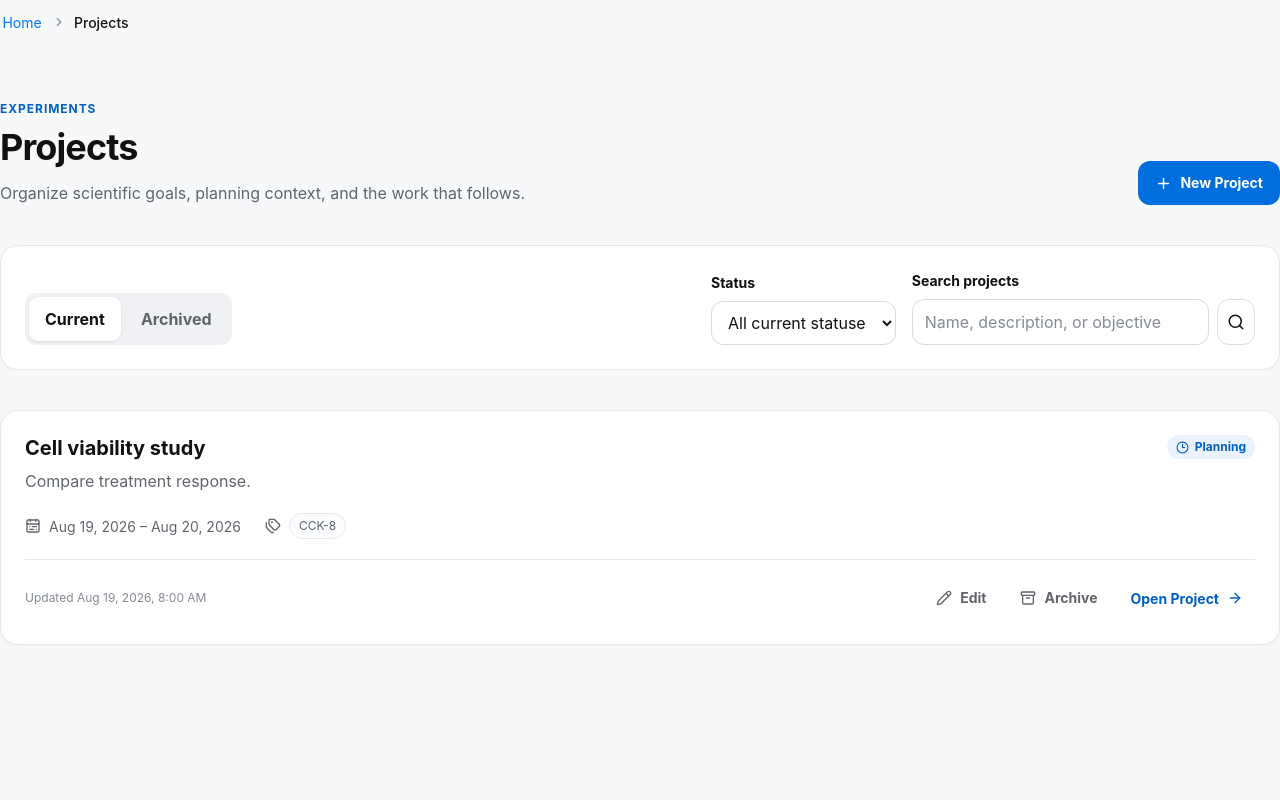
it: ProjectsPage › shows a clear revision conflict during edit
Expected: the heading "Cell viability study" is shown, [25,435,206,461]
Click the button "Edit": [961, 598] box [923,576,1000,620]
(page scrolled)
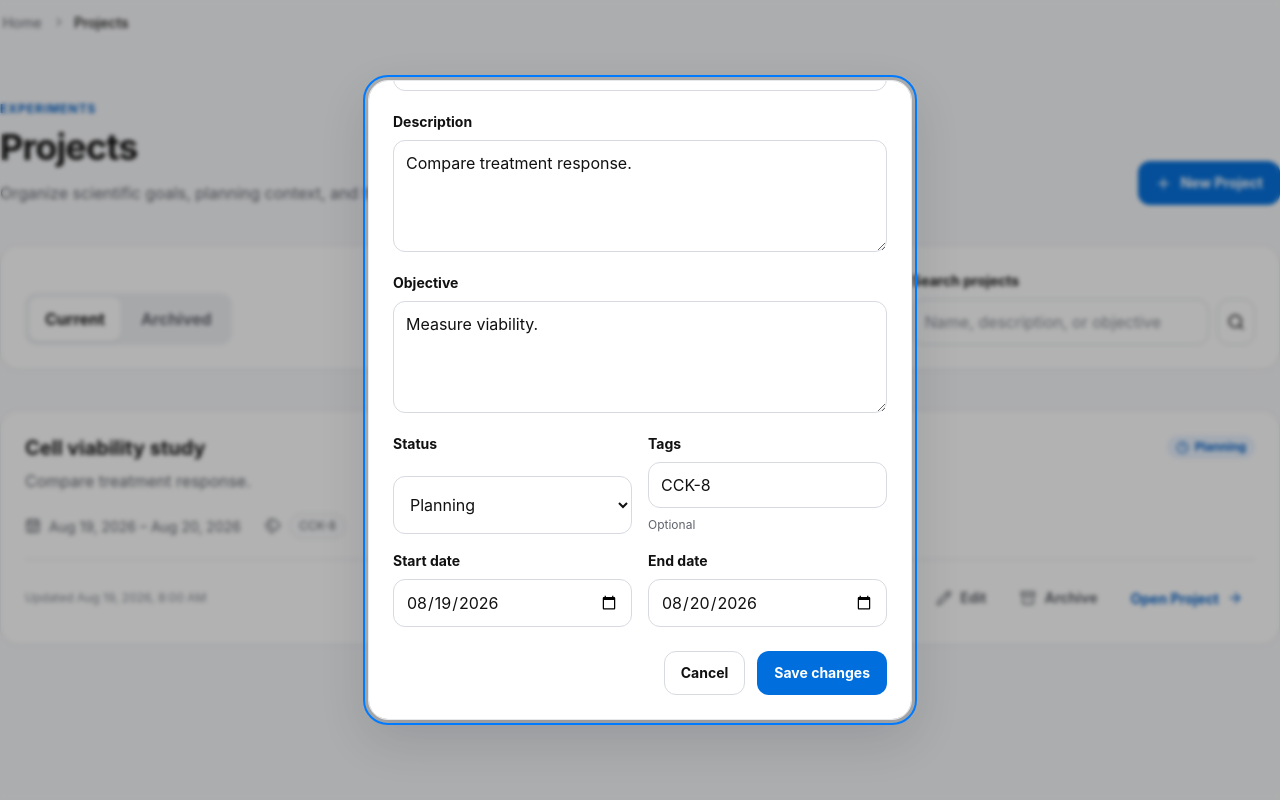
Click the button "Save changes": [822, 673] box [757,651,887,695]
(page scrolled)
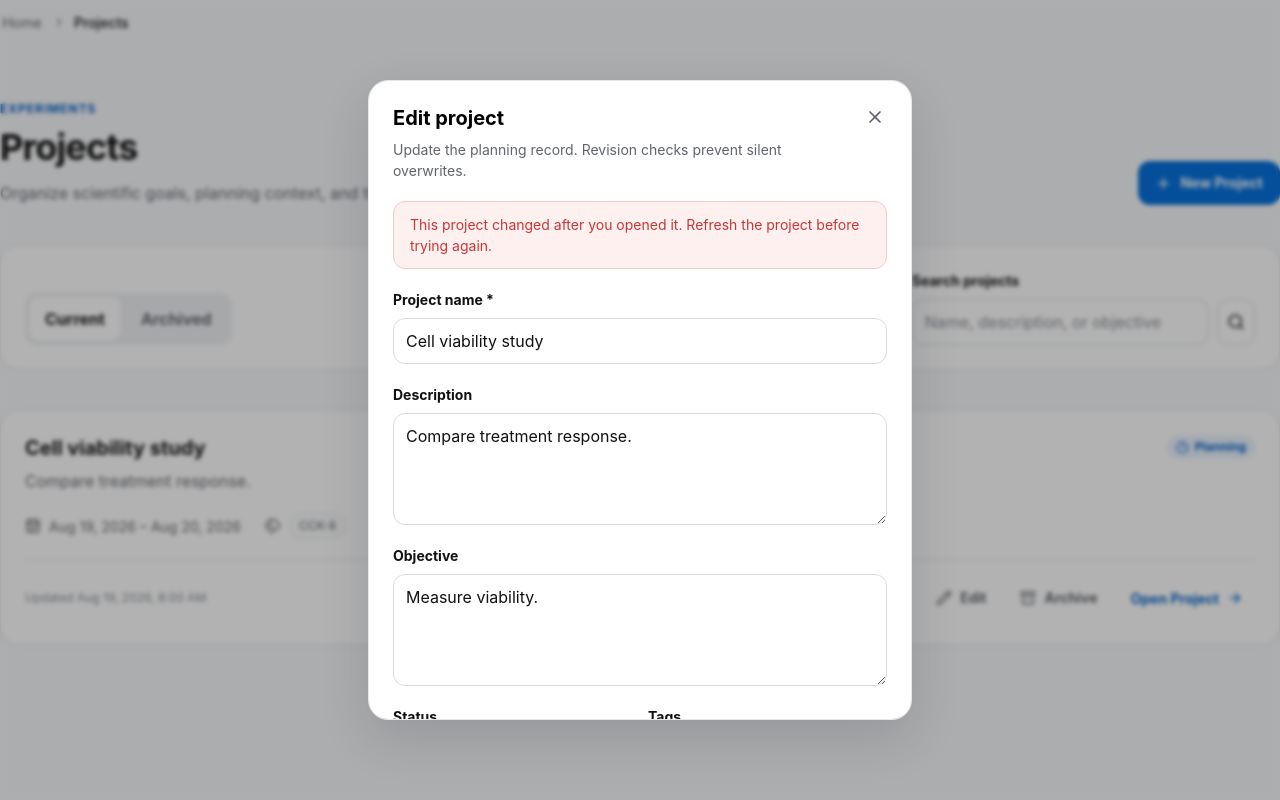
Expected: the text "This project changed after you opened it. Refresh the project before trying again." is shown, [410,216,860,254]
